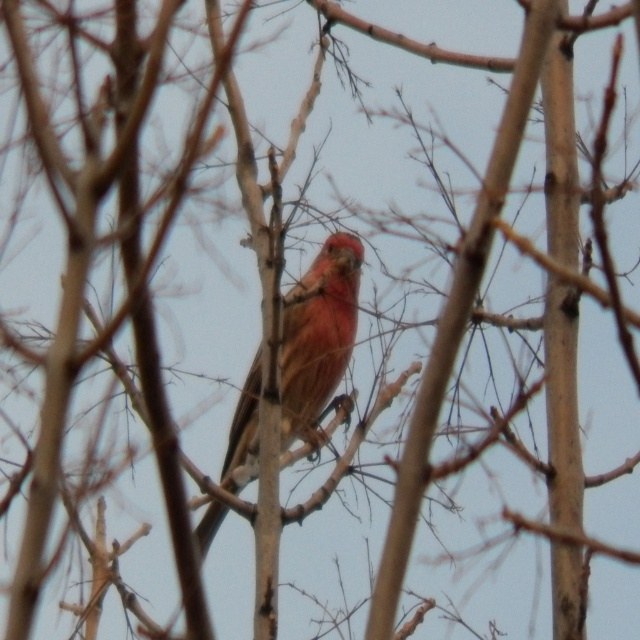Canary: (188, 230, 364, 570)
